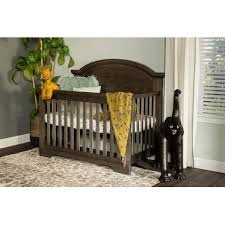crib: (40, 59, 163, 173)
